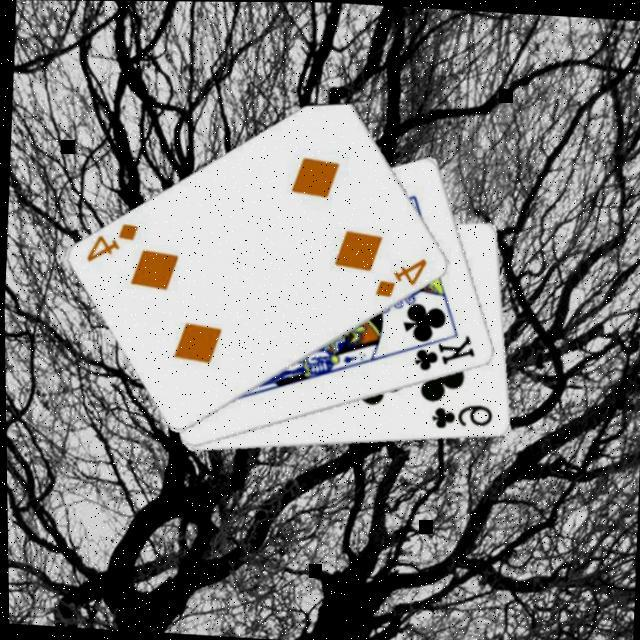4D: (372, 251, 433, 301), (84, 216, 145, 266)
9C: (429, 398, 498, 433)
KC: (400, 324, 481, 374)
